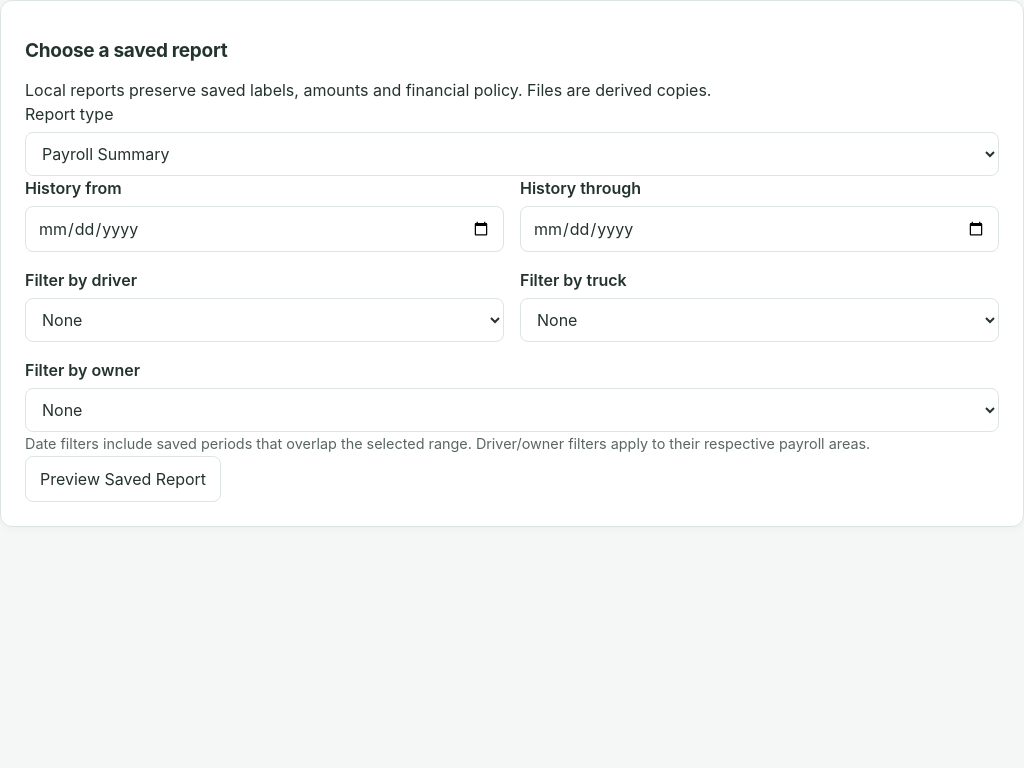
Test case: retains a clear error for empty/corrupt saved reports
The image size is (1024, 768).
Click the button "Preview Saved Report".
click(123, 479)  # box [25,456,221,502]
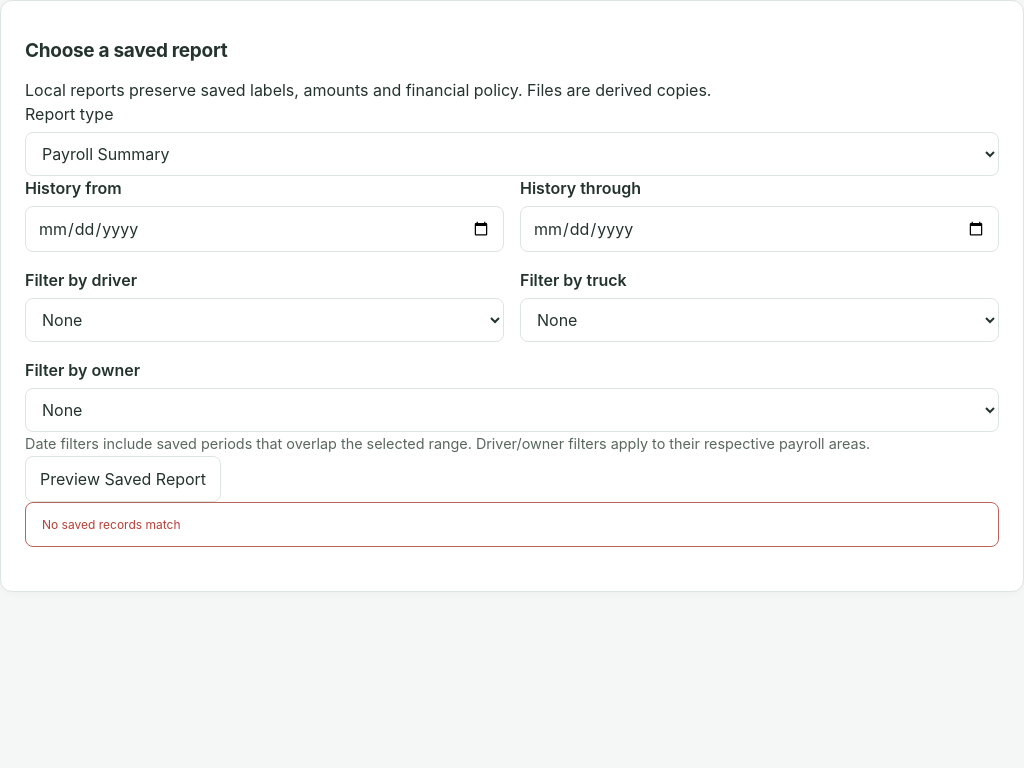
Check: the message reads "No saved records match", box [42,517,180,532]
